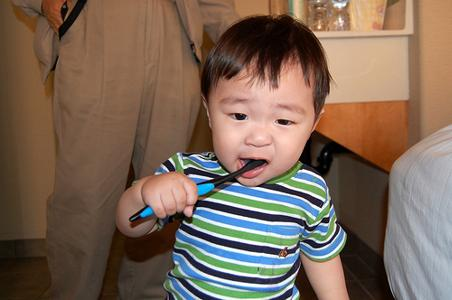person: (117, 15, 352, 300)
